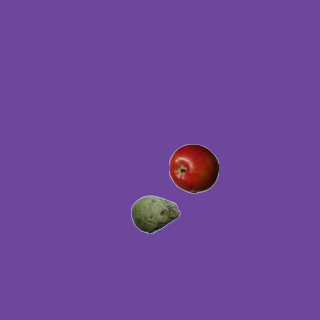Apple Braeburn: (168, 143, 218, 193)
Pear Stone: (130, 189, 180, 239)
